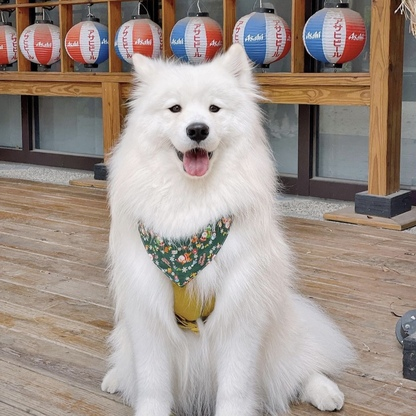samoyed: (96, 38, 363, 416)
